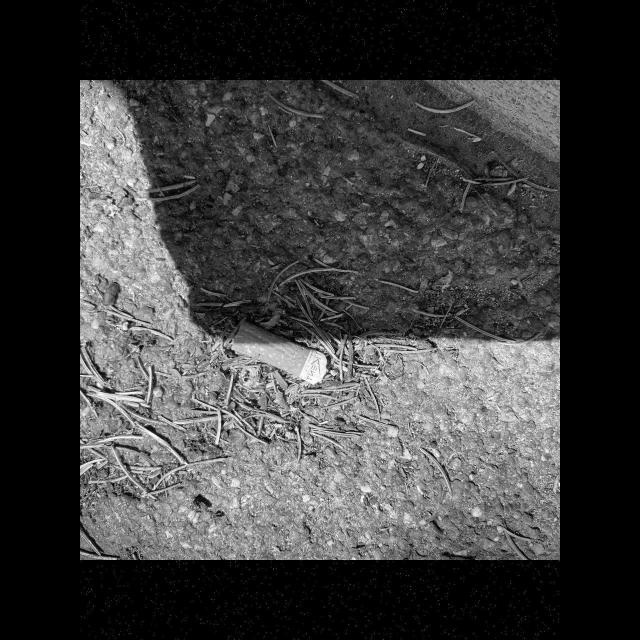cigarette: (230, 318, 328, 385)
